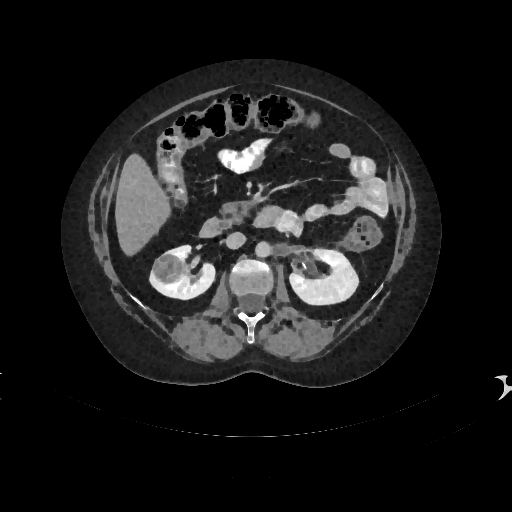Lesion: (151, 251, 187, 288)
